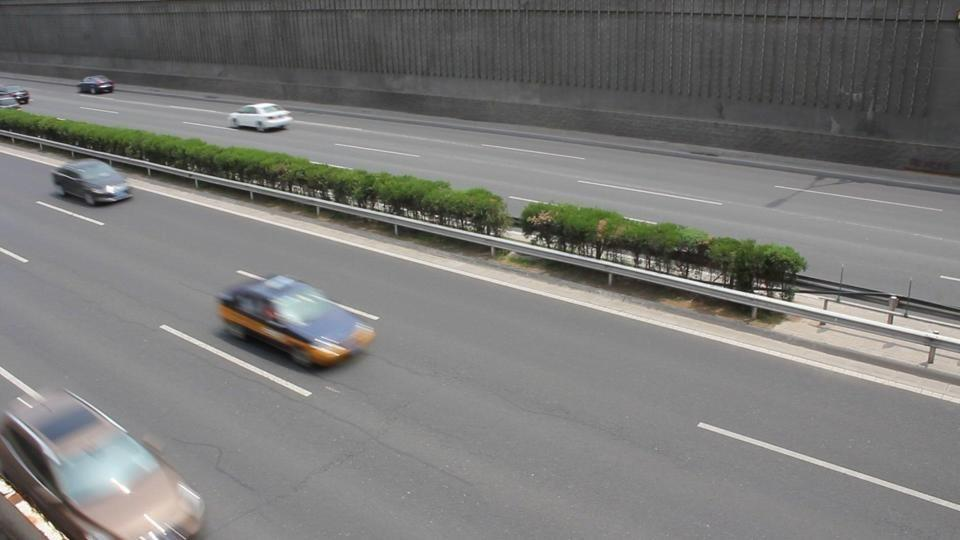car: (0, 385, 207, 537), (213, 273, 379, 369), (50, 158, 131, 206), (227, 102, 290, 133), (77, 74, 116, 95), (0, 84, 32, 105)
